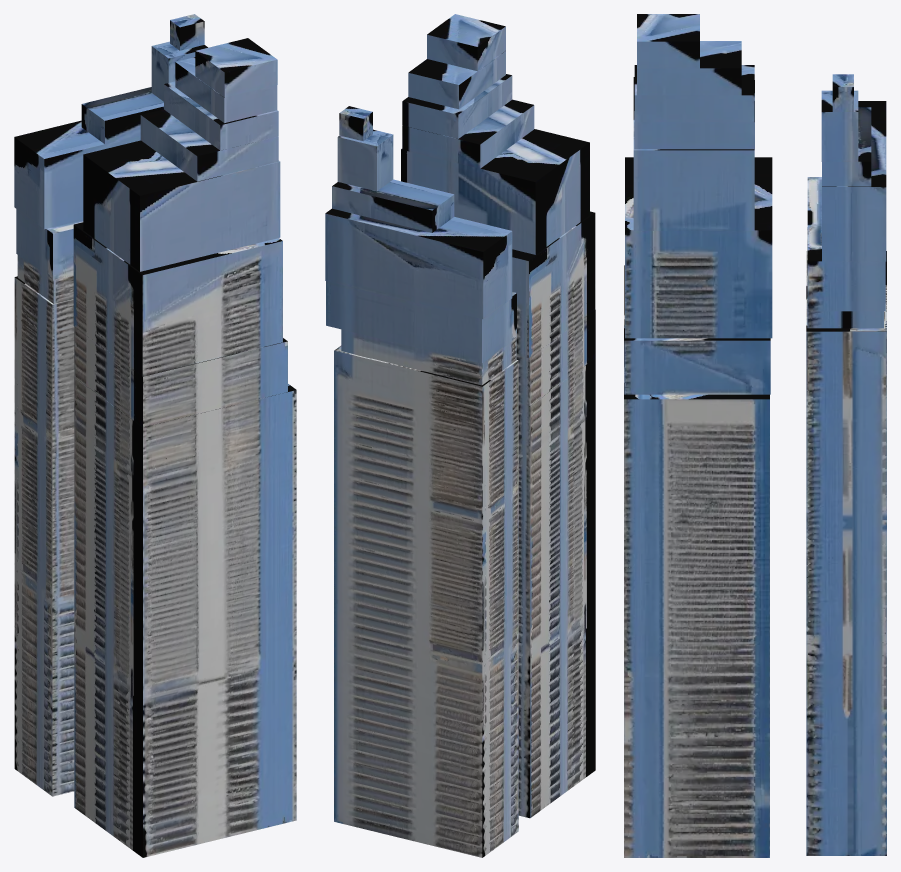
Rendered from twin.glb.
The picture shows the model from 3 angles, left to right: view 1: azimuth 30°, elevation 25°; view 2: azimuth 150°, elevation 25°; view 3: azimuth 270°, elevation 25°; orthographic projection. The views are drawn at different scales.
Parts seen in each view (by area): view 1: Body; view 2: Body; view 3: Body.
Part boxes in pixels (x1,y1,x2,y2): Body: [14, 14, 296, 857]; Body: [325, 14, 595, 857]; Body: [624, 14, 886, 857].
Size of the model in its own units: 44.11 by 194 by 56.95.
Materials: 1 (1 with a texture image).
